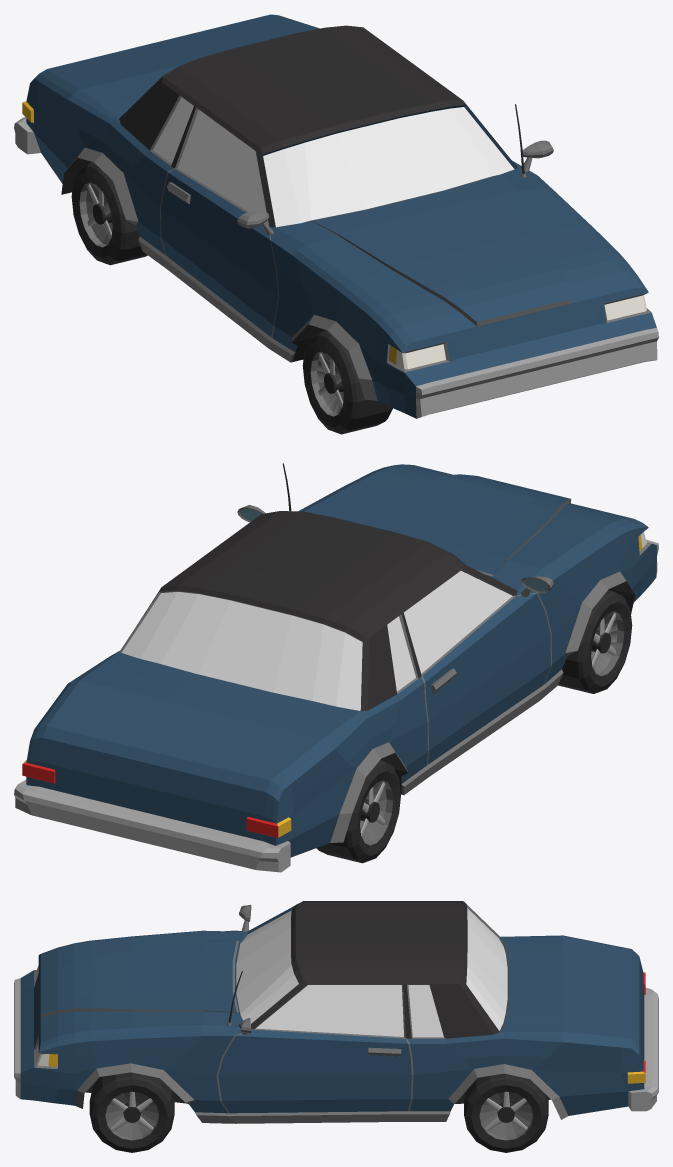
File: Car_Classy_04.fbx
3 views of the same model, one above another, from view 1: azimuth 30°, elevation 25°; view 2: azimuth 150°, elevation 25°; view 3: azimuth 270°, elevation 25° (orthographic). The views are drawn at different scales.
Visible parts, largest first — view 1: Car_Classy_04, Wheel_Classic_04.F.R, Wheel_Classic_04.R.R; view 2: Car_Classy_04, Wheel_Classic_04.F.R, Wheel_Classic_04.R.R; view 3: Car_Classy_04, Wheel_Classic_04.F.L, Wheel_Classic_04.R.L.
Part boxes in pixels (x1,y1,x2,y2): Car_Classy_04: [14, 14, 658, 418]; Wheel_Classic_04.F.R: [302, 330, 392, 434]; Wheel_Classic_04.R.R: [71, 162, 147, 265]; Car_Classy_04: [14, 463, 658, 872]; Wheel_Classic_04.F.R: [558, 590, 632, 693]; Wheel_Classic_04.R.R: [316, 760, 400, 863]; Car_Classy_04: [14, 901, 658, 1123]; Wheel_Classic_04.F.L: [89, 1072, 174, 1152]; Wheel_Classic_04.R.L: [464, 1073, 548, 1152].
Bounding box in the file's own units: 303 × 199 × 668.
